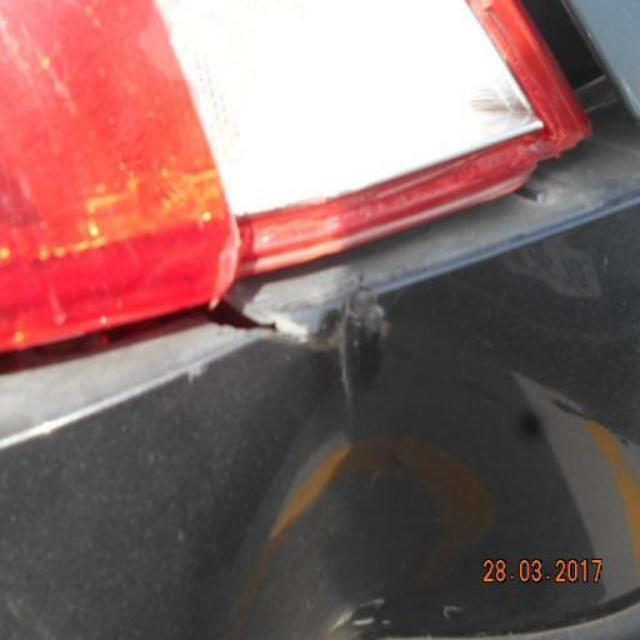crack: (197, 295, 301, 343)
dent: (281, 285, 407, 366)
